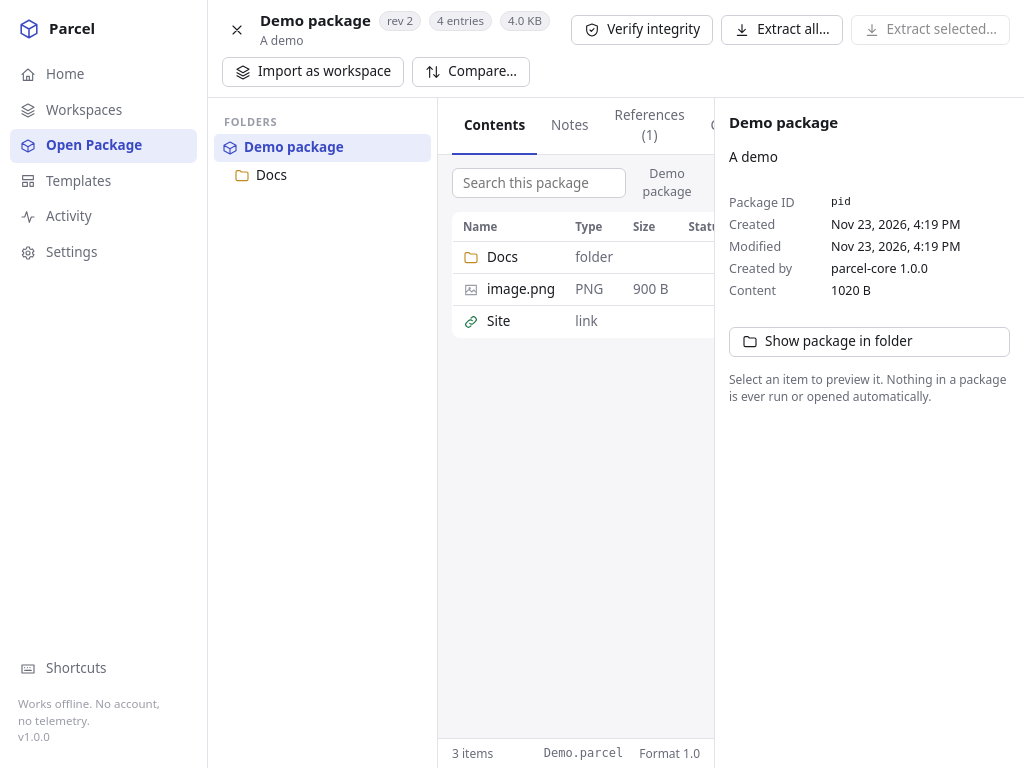
Test: package explorer › browses folders, shows details, and works without any workspace
This screenshot has width=1024, height=768.
Expected: the text "image.png" is shown, [487,280,555,300]
Double-click the text "Docs" below "Name": (502, 258) [487,248,518,268]
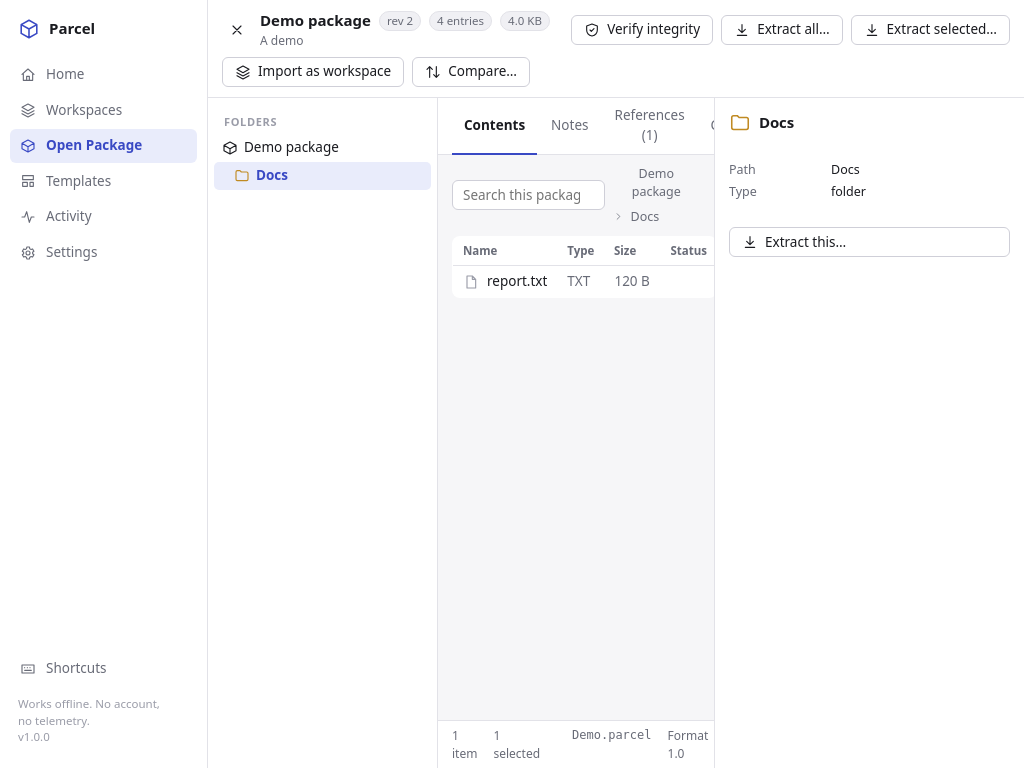
Now the text "report.txt" is shown
Now the text "image.png" is gone
Click the text "report.txt": (517, 282) [487,272,547,292]
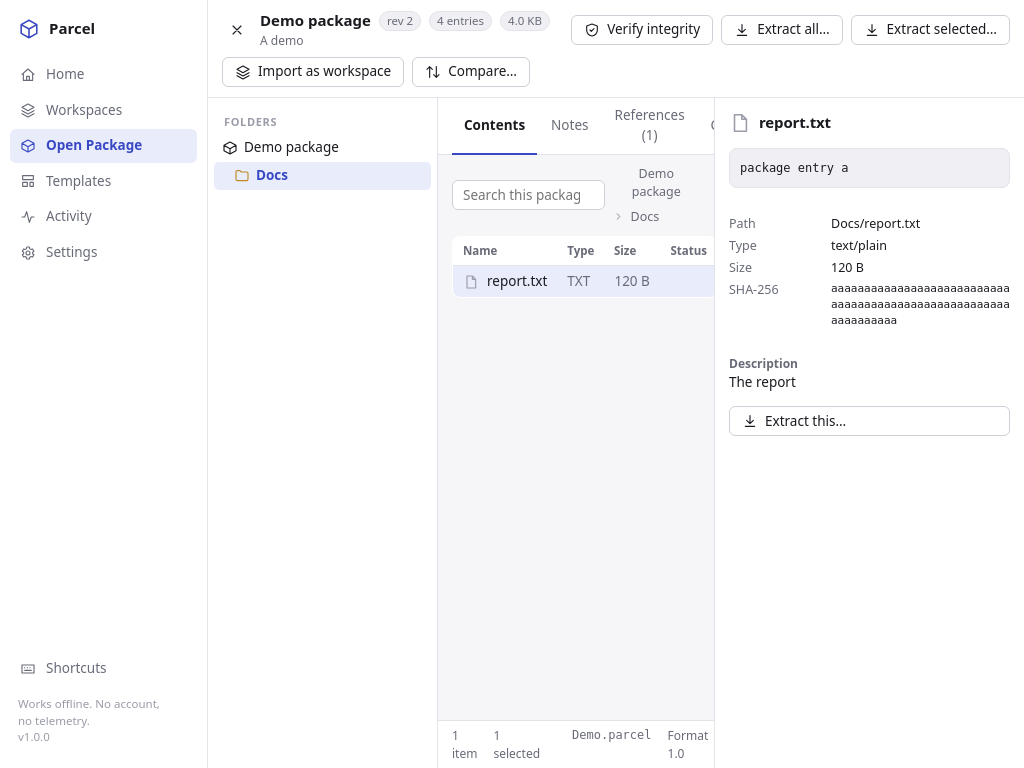
Now the text "The report" is shown, box [729,373,796,391]
Now the text "package entry a" is shown, box [740,161,848,175]
